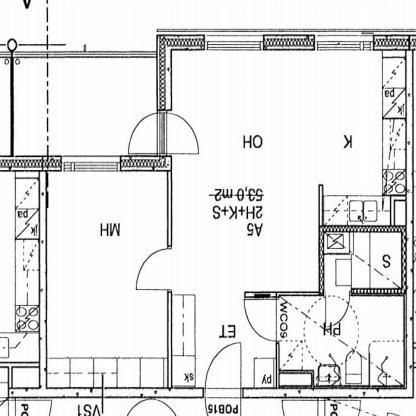door: (122, 102, 205, 158), (129, 239, 174, 294), (200, 339, 245, 392), (162, 106, 202, 160), (239, 294, 280, 345), (126, 108, 162, 165), (319, 289, 357, 332)
window: (56, 151, 125, 180), (199, 33, 269, 61), (306, 31, 378, 58)
